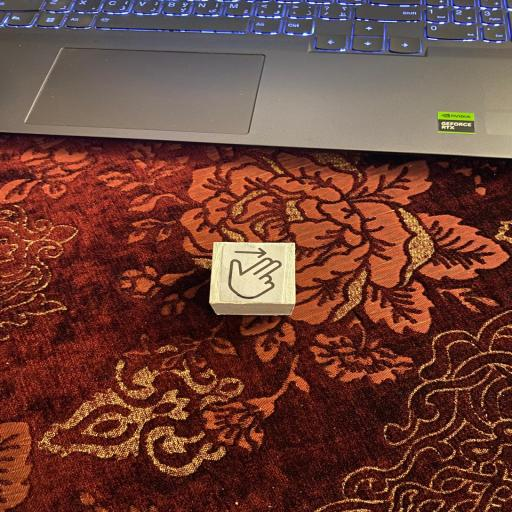LeftSwipe: (210, 241, 298, 316)
